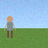person: (4, 16, 16, 38)
